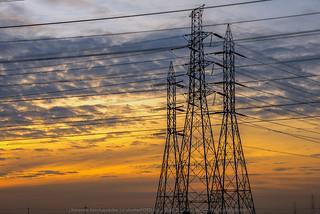power_tower: (179, 0, 223, 214), (216, 17, 254, 214), (157, 59, 188, 214)
